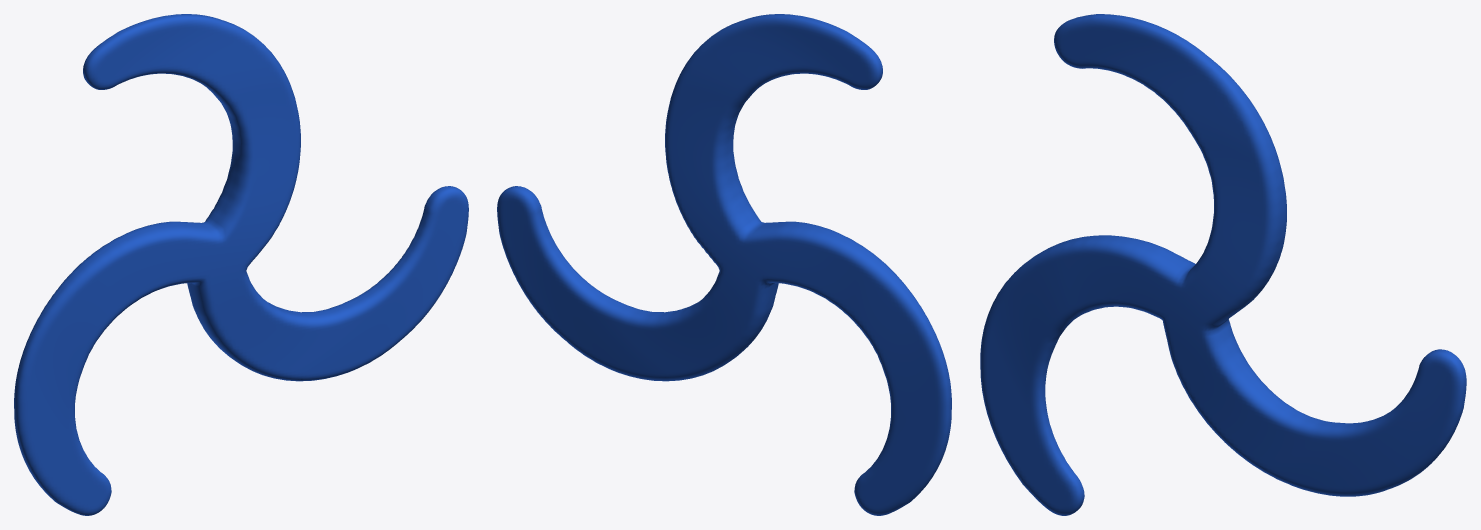
File: trigeng.glb
3 renders of one model, left to right at view 1: azimuth 30°, elevation 25°; view 2: azimuth 150°, elevation 25°; view 3: azimuth 330°, elevation 25°, orthographic. The views are drawn at different scales.
Visible parts, largest first — view 1: TKA_Trigeng_CrownedShell; view 2: TKA_Trigeng_CrownedShell; view 3: TKA_Trigeng_CrownedShell.
Part boxes in pixels (<box>): TKA_Trigeng_CrownedShell: <box>14,14,468,515</box>; TKA_Trigeng_CrownedShell: <box>497,14,951,515</box>; TKA_Trigeng_CrownedShell: <box>980,14,1466,515</box>.
Bounding box in the file's own units: 0.6421 × 0.651 × 0.0534.
